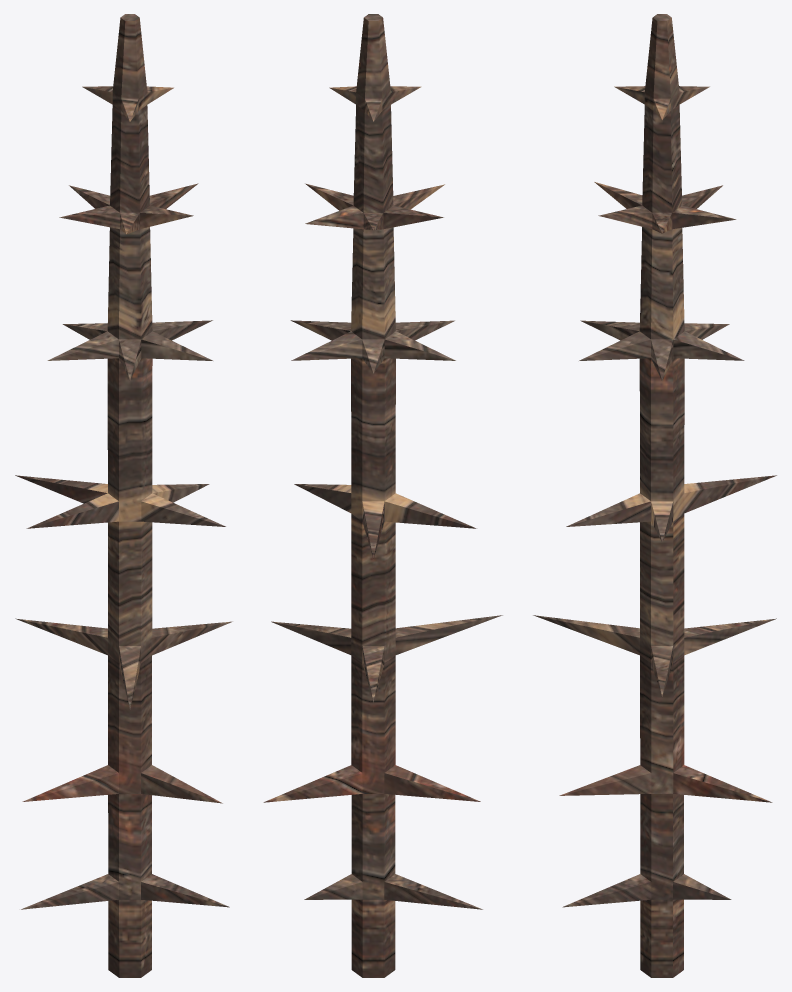
File: TreeNailed.fbx
3 views of the same model, side by side, from view 1: azimuth 30°, elevation 25°; view 2: azimuth 150°, elevation 25°; view 3: azimuth 270°, elevation 25° (orthographic).
Visible parts, largest first — view 1: Cylinder; view 2: Cylinder; view 3: Cylinder.
Boxes of the visible parts, box(x1,y1,x2,y2) form: Cylinder: box(15, 14, 232, 977); Cylinder: box(263, 14, 502, 977); Cylinder: box(533, 14, 776, 977).
Bounding box in the file's own units: 140 × 595 × 139.
